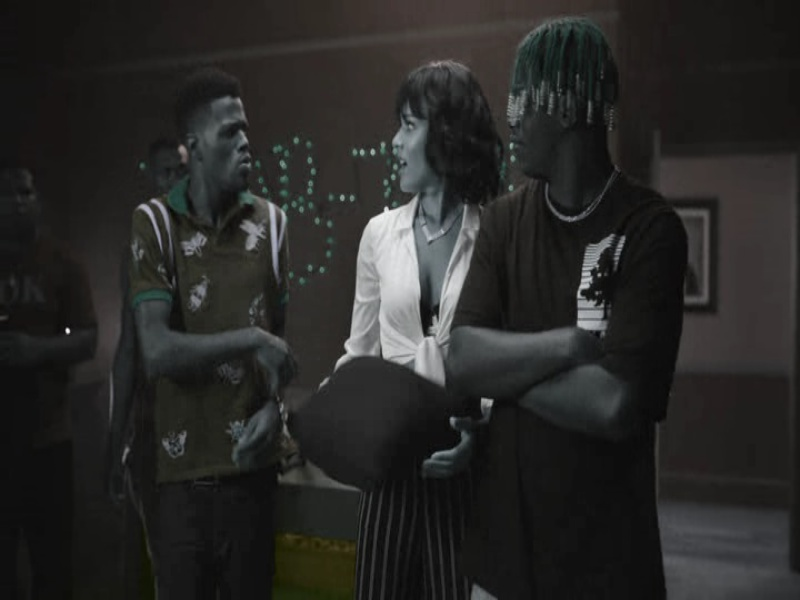TsisyArotava: (493, 29, 597, 192), (173, 71, 271, 204), (381, 67, 471, 207)
